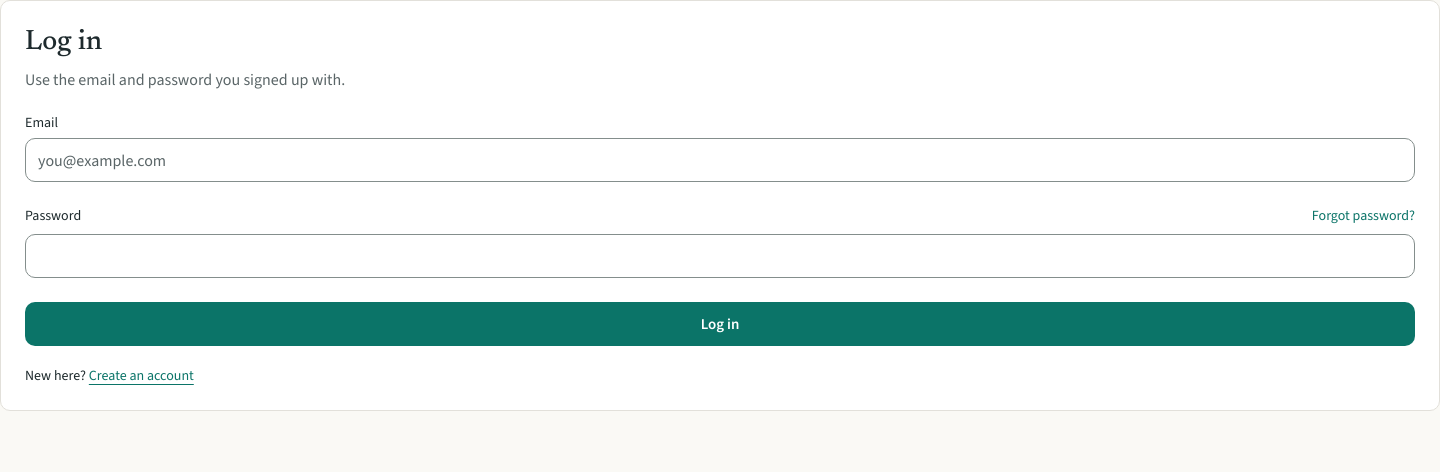
LoginForm › wrong credentials get a friendly message
In the field labelled "Email": (720, 160) x1=25 y1=138 x2=1415 y2=182, type "ann@example.com"
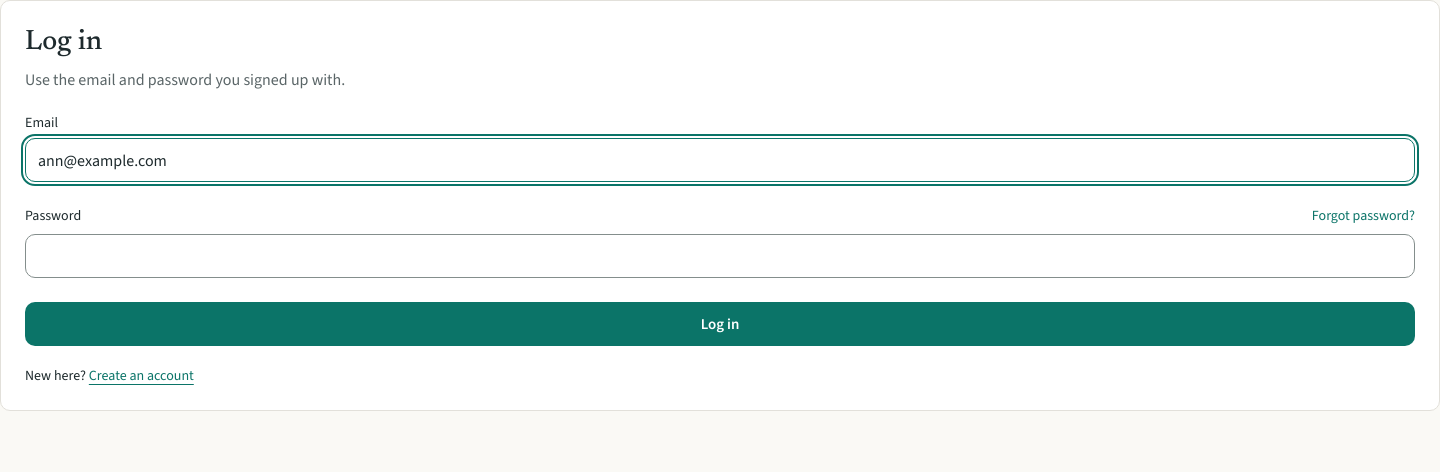
In the password field labelled "Password": (720, 256) x1=25 y1=234 x2=1415 y2=278, type "Password123!"
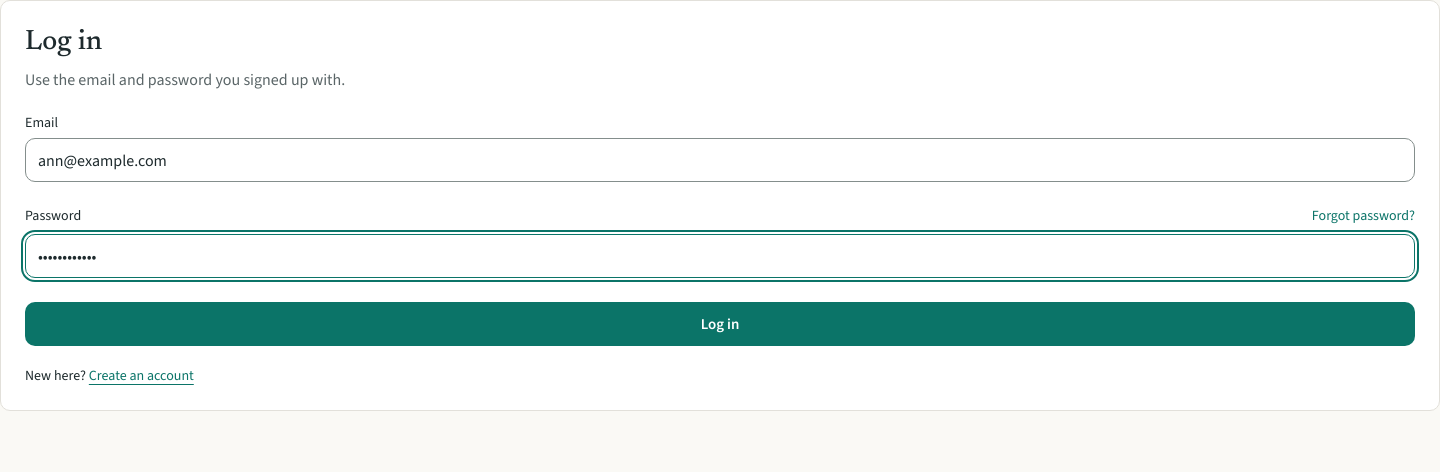
Click the button "Log in": (720, 324) x1=25 y1=302 x2=1415 y2=346
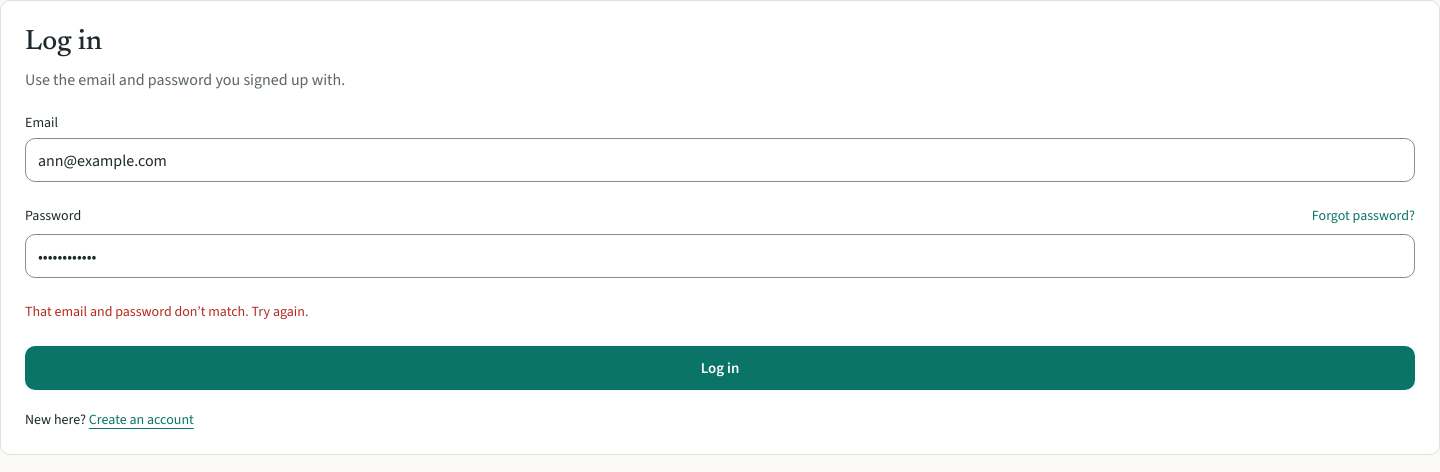
Now the message reads "That email and password don’t match. Try again.", box x1=25 y1=302 x2=308 y2=321
